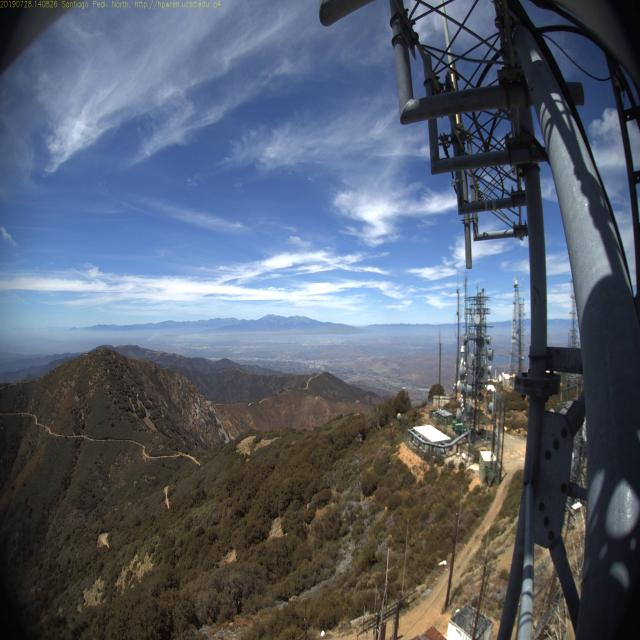smoke: (144, 326, 161, 344)
